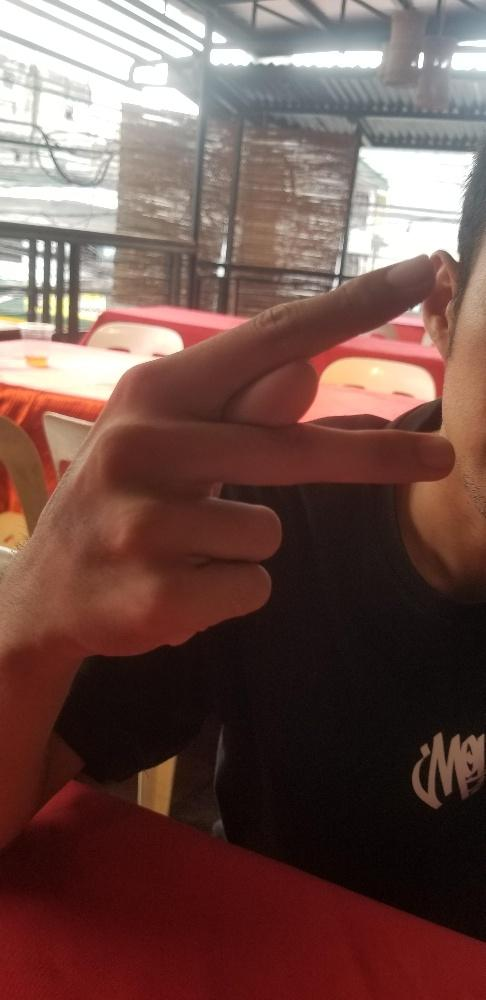k: (43, 248, 459, 657)
